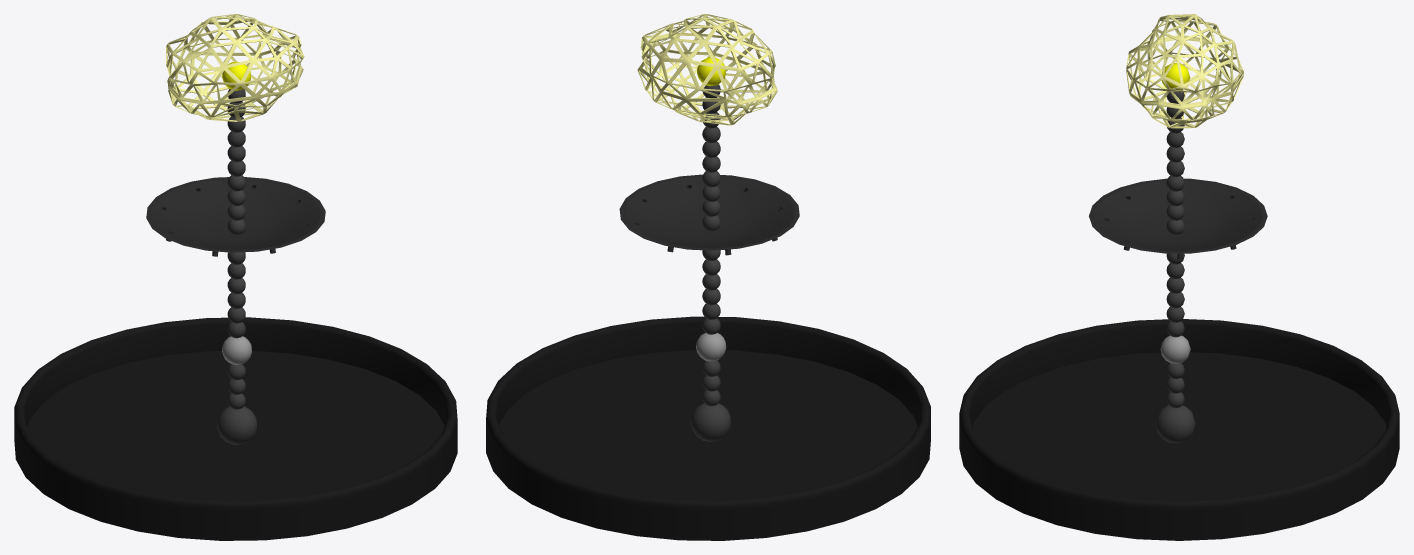
The model's file is Le Nuage dOort.fbx.
The picture shows the model from 3 angles, left to right: view 1: azimuth 30°, elevation 25°; view 2: azimuth 150°, elevation 25°; view 3: azimuth 270°, elevation 25°; orthographic projection.
Visible parts, largest first — view 1: Cylinder001, Line001, GeoSphere001, Sphere023, Sphere004; view 2: Cylinder001, Line001, GeoSphere001, Sphere023, Sphere004; view 3: Cylinder001, Line001, GeoSphere001, Sphere023, Sphere004.
Boxes of the visible parts, x1,y1,x2,y2 form: Cylinder001: (14, 317, 457, 540); Line001: (146, 177, 325, 256); GeoSphere001: (166, 14, 304, 121); Sphere023: (217, 406, 256, 444); Sphere004: (222, 336, 251, 364); Cylinder001: (486, 316, 930, 540); Line001: (619, 174, 799, 255); GeoSphere001: (637, 14, 777, 125); Sphere023: (690, 403, 730, 441); Sphere004: (696, 333, 726, 361); Cylinder001: (959, 319, 1399, 540); Line001: (1089, 178, 1267, 259); GeoSphere001: (1126, 14, 1243, 128); Sphere023: (1155, 405, 1195, 443); Sphere004: (1160, 335, 1190, 363).
Bounding box in the file's own units: 48 × 51.1 × 48.
